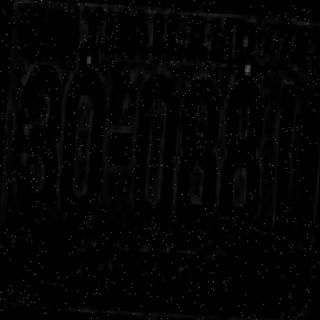N00: (60, 65, 104, 219), (132, 74, 178, 221)
N01: (274, 84, 294, 230), (274, 88, 292, 231)
N03: (15, 64, 61, 215)
N08: (176, 76, 220, 223), (220, 80, 262, 227)
P58: (74, 237, 233, 306)
